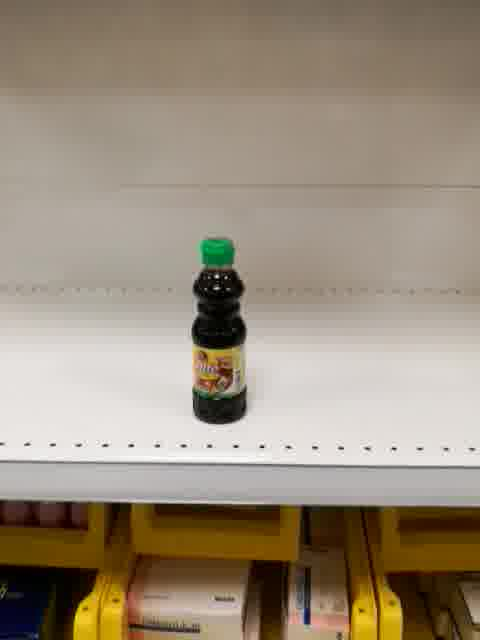cookingoil: (189, 233, 249, 426)
